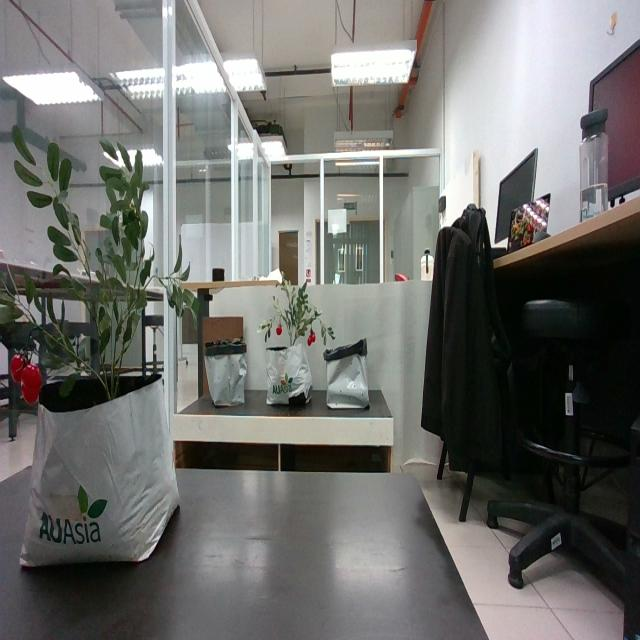Soilbag: (20, 373, 180, 572)
Tomato: (10, 352, 42, 406)
plant: (0, 124, 185, 405)
